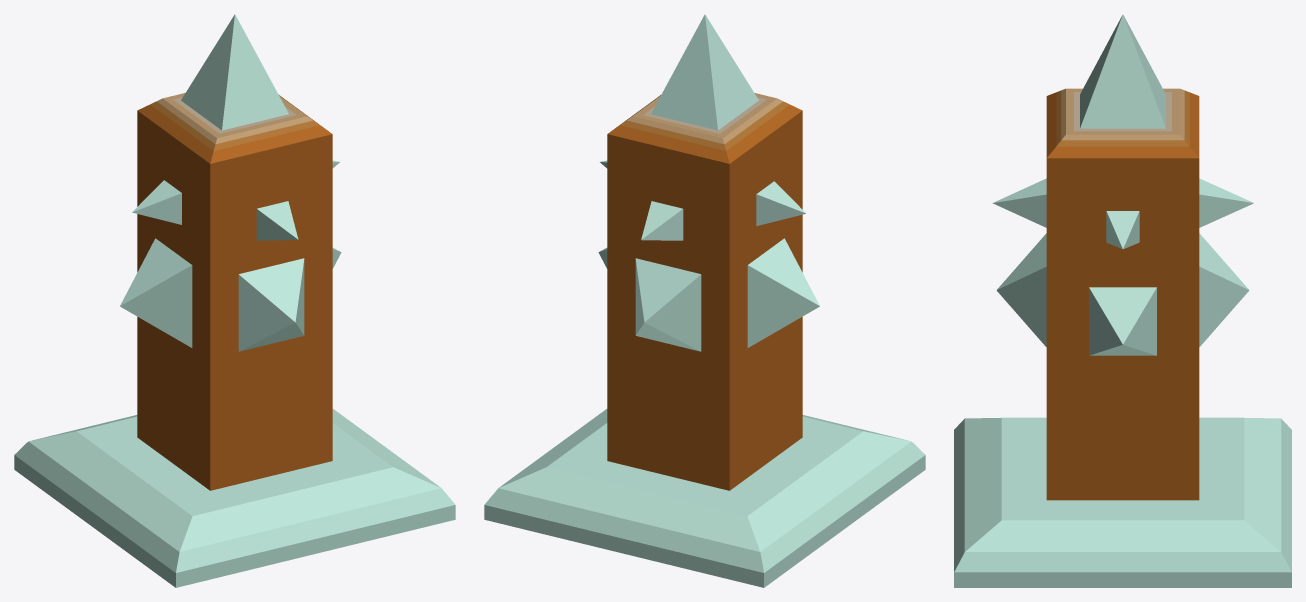
File: Log.fbx
3 renders of one model, left to right at view 1: azimuth 30°, elevation 25°; view 2: azimuth 150°, elevation 25°; view 3: azimuth 270°, elevation 25°, orthographic. The views are drawn at different scales.
Parts seen in each view (by area): view 1: Стовб(перепона); view 2: Стовб(перепона); view 3: Стовб(перепона).
Boxes of the visible parts, box(x1,y1,x2,y2) form: Стовб(перепона): box(14, 14, 455, 587); Стовб(перепона): box(484, 14, 925, 587); Стовб(перепона): box(954, 14, 1291, 587).
Size of the model in its own units: 200 by 328 by 200.
